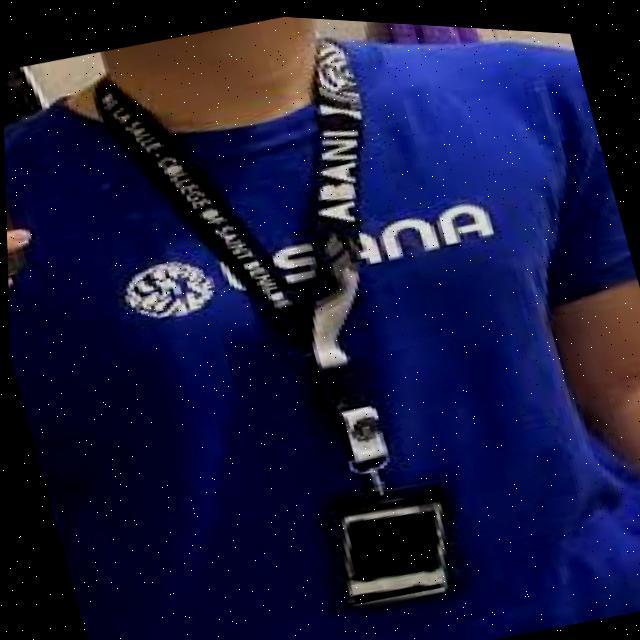id_card: (89, 10, 528, 640)
